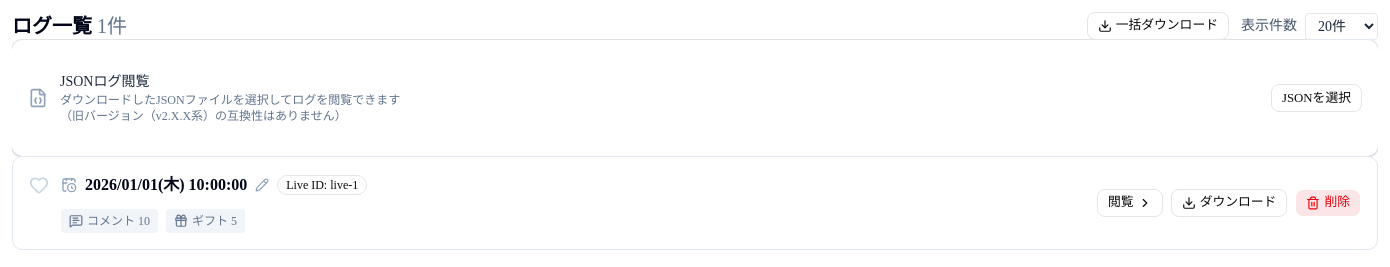
Test: LogListPage › お気に入り（canEdit=true） › ハートクリック後、楽観的更新でラベルが変わる
What coordinates should you click on to do the following:
click the button named "お気に入りに追加"
I would click on:
 (39, 185)
Its box is x1=29 y1=175 x2=49 y2=195.
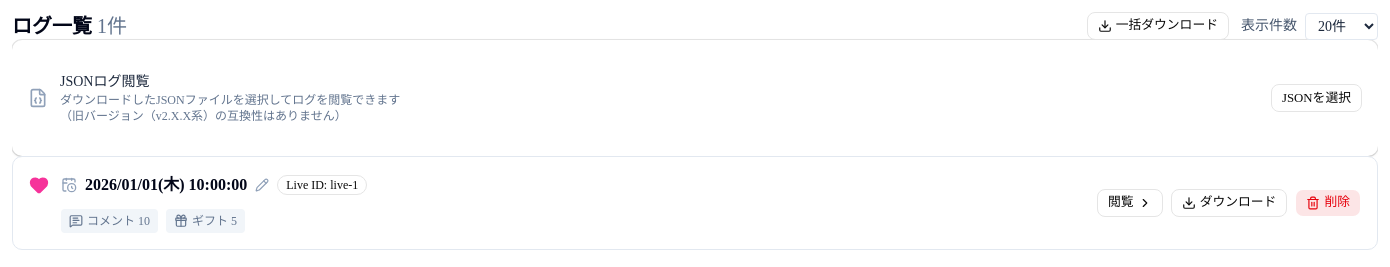
Check: the button named "お気に入りを解除" is shown, box x1=29 y1=175 x2=49 y2=195
